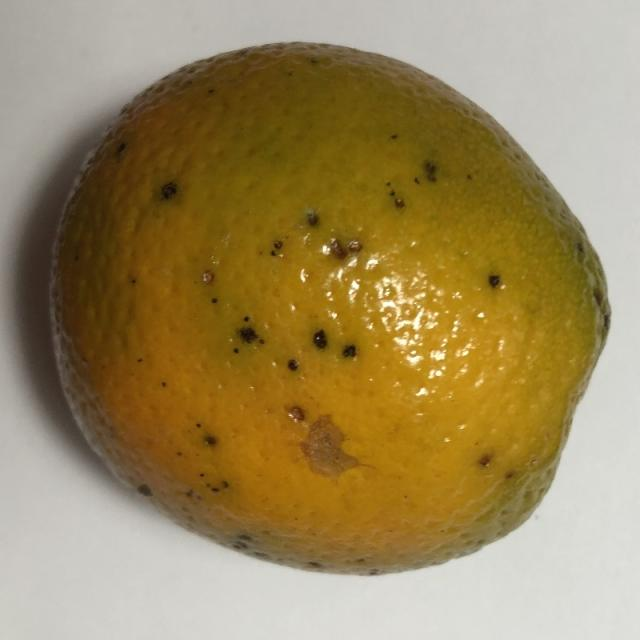black spot: (25, 39, 620, 580)
